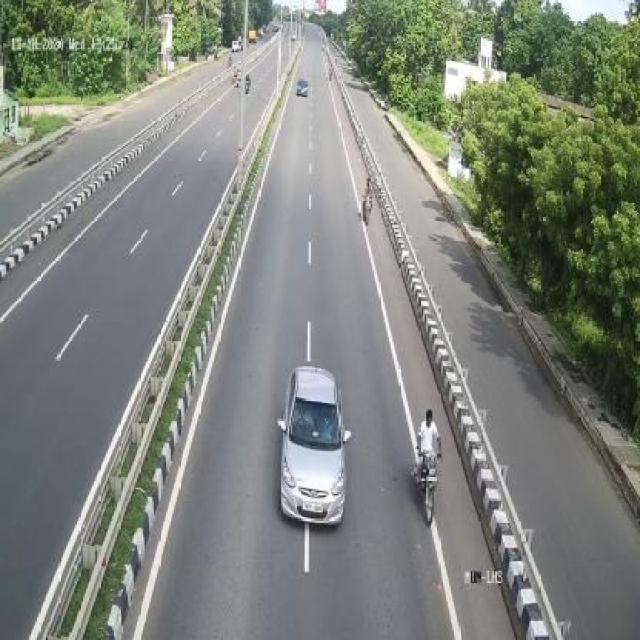car: (283, 358, 351, 531), (294, 74, 311, 101)
